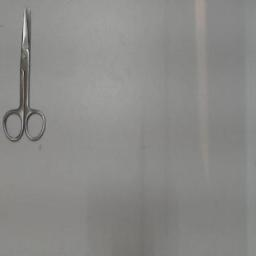Dressing Scissors: (0, 2, 52, 148)
